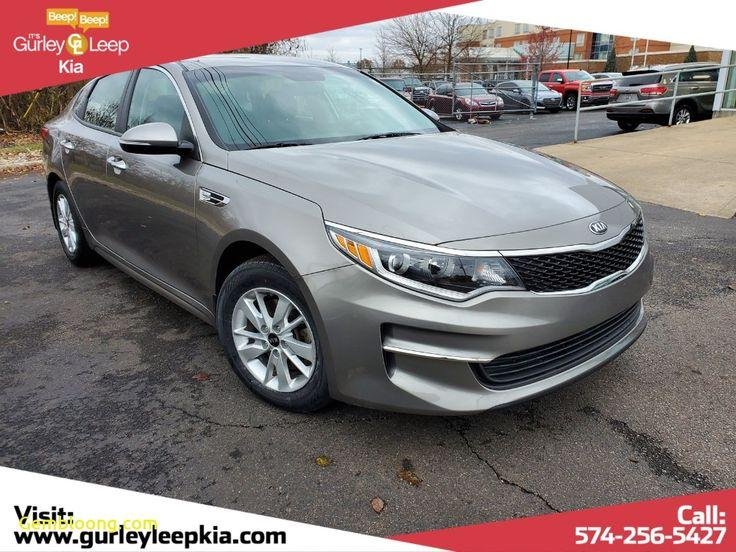windshield: (172, 63, 460, 166)
